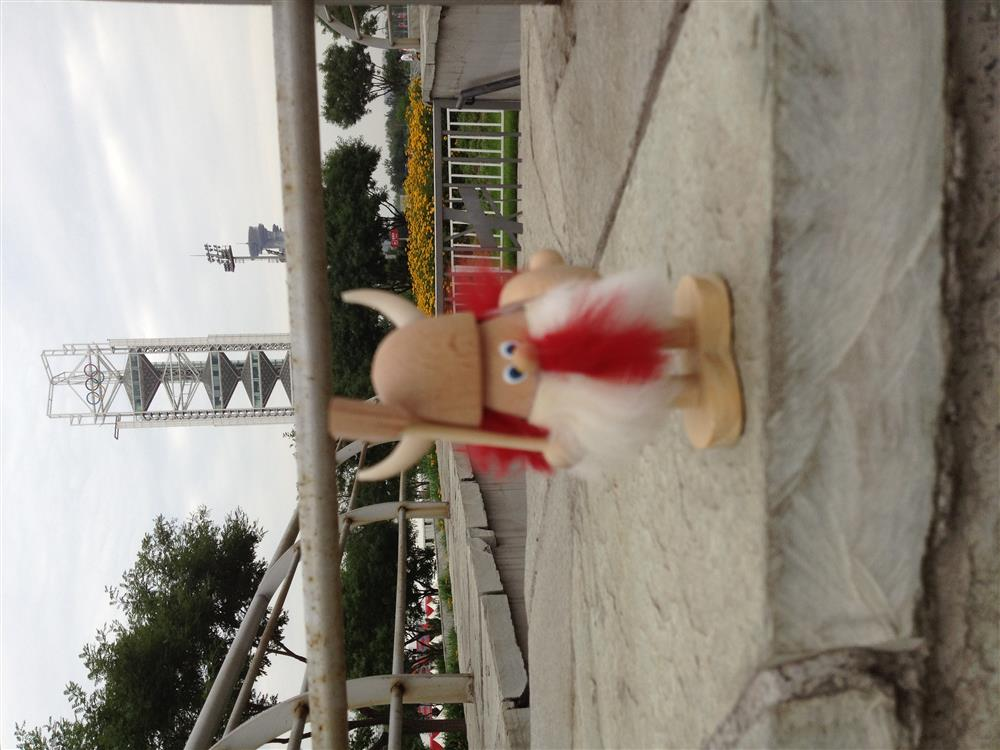dwarf: (310, 254, 763, 486)
